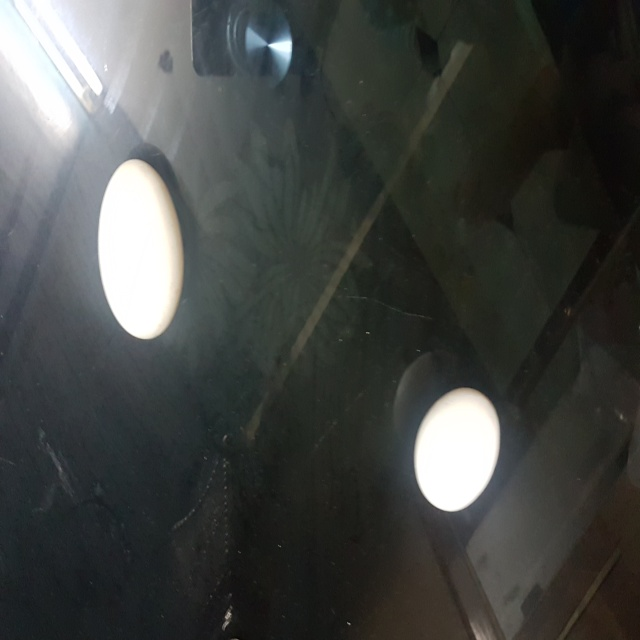eggs: (96, 159, 184, 342), (412, 388, 503, 511)
